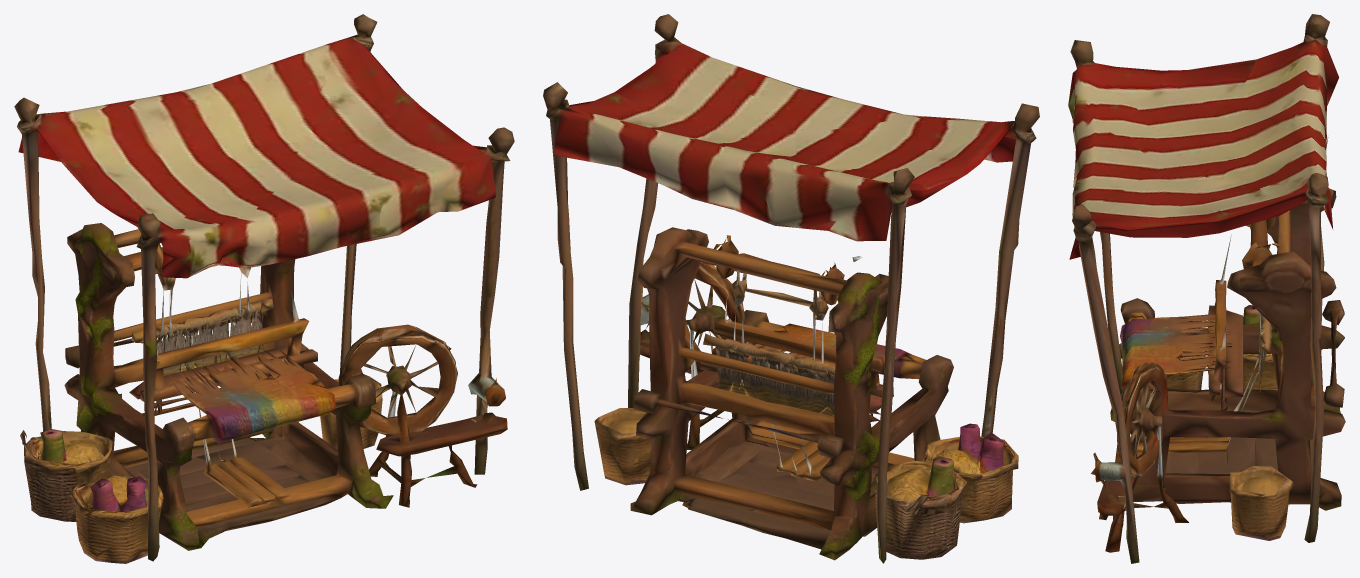
The model's file is town_station_loom_awning.glb.
3 views of the same model, side by side, from view 1: azimuth 30°, elevation 25°; view 2: azimuth 150°, elevation 25°; view 3: azimuth 270°, elevation 25° (orthographic). The views are drawn at different scales.
Parts seen in each view (by area): view 1: tripo_node_2ea3d567-041e-4c05-acfa-f43bff589ab2; view 2: tripo_node_2ea3d567-041e-4c05-acfa-f43bff589ab2; view 3: tripo_node_2ea3d567-041e-4c05-acfa-f43bff589ab2.
Part boxes in pixels (box(x1,y1,x2,y2)): tripo_node_2ea3d567-041e-4c05-acfa-f43bff589ab2: box(14, 14, 514, 563); tripo_node_2ea3d567-041e-4c05-acfa-f43bff589ab2: box(543, 14, 1039, 563); tripo_node_2ea3d567-041e-4c05-acfa-f43bff589ab2: box(1068, 14, 1345, 563).
Size of the model in its own units: 3.83 by 3.59 by 2.38.
Materials: 1 (1 with a texture image).
